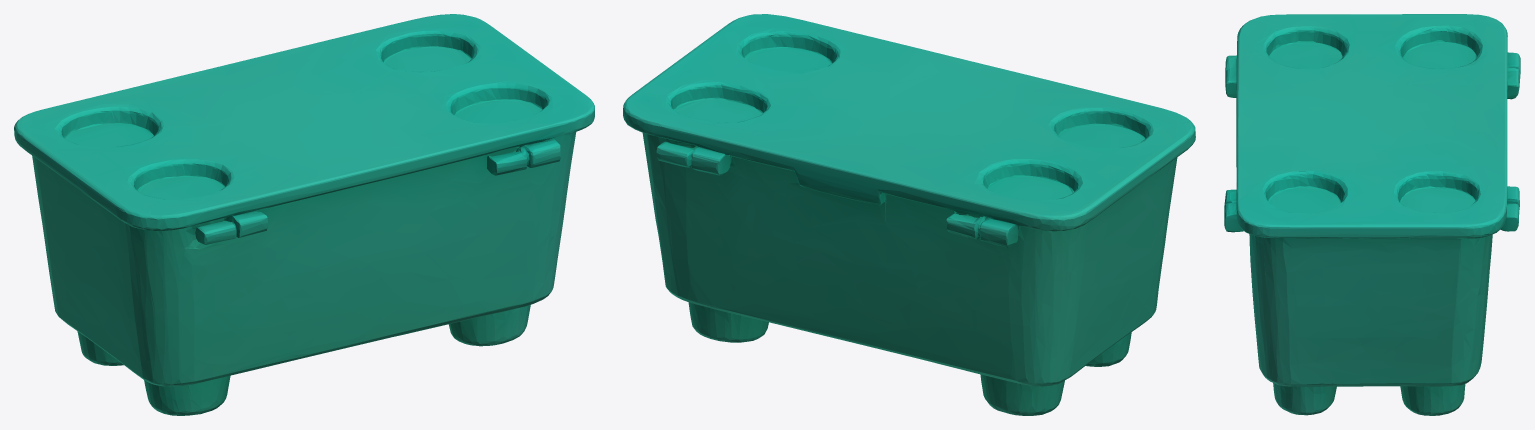
3 renders of one model, left to right at view 1: azimuth 30°, elevation 25°; view 2: azimuth 150°, elevation 25°; view 3: azimuth 270°, elevation 25°, orthographic. The views are drawn at different scales.
Visible parts, largest first — view 1: geometry_0; view 2: geometry_0; view 3: geometry_0.
Part boxes in pixels (bbox=[...]): geometry_0: bbox=[14, 14, 594, 415]; geometry_0: bbox=[623, 14, 1195, 415]; geometry_0: bbox=[1224, 14, 1520, 415].
Size of the model in its own units: 0.17 by 0.08 by 0.1.
